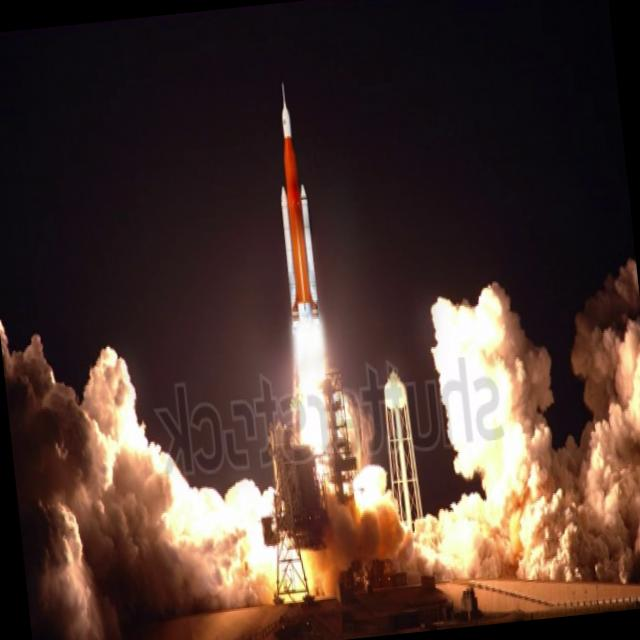rocket: (261, 74, 335, 408)
